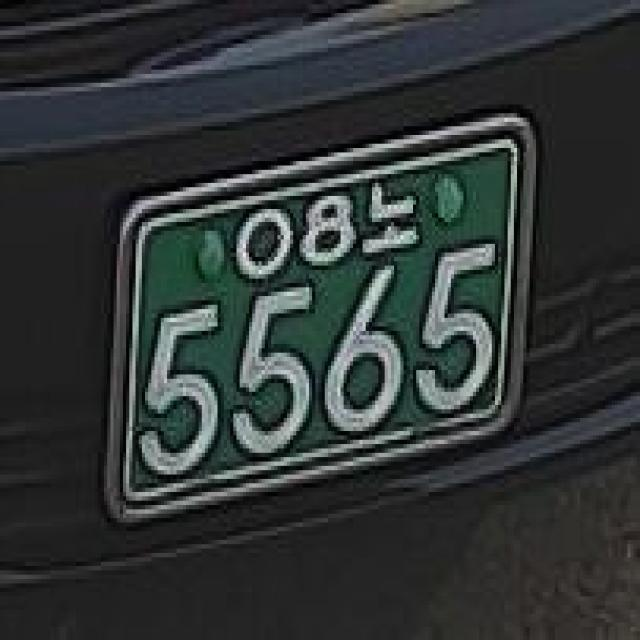illegal_plate: (96, 112, 540, 538)
